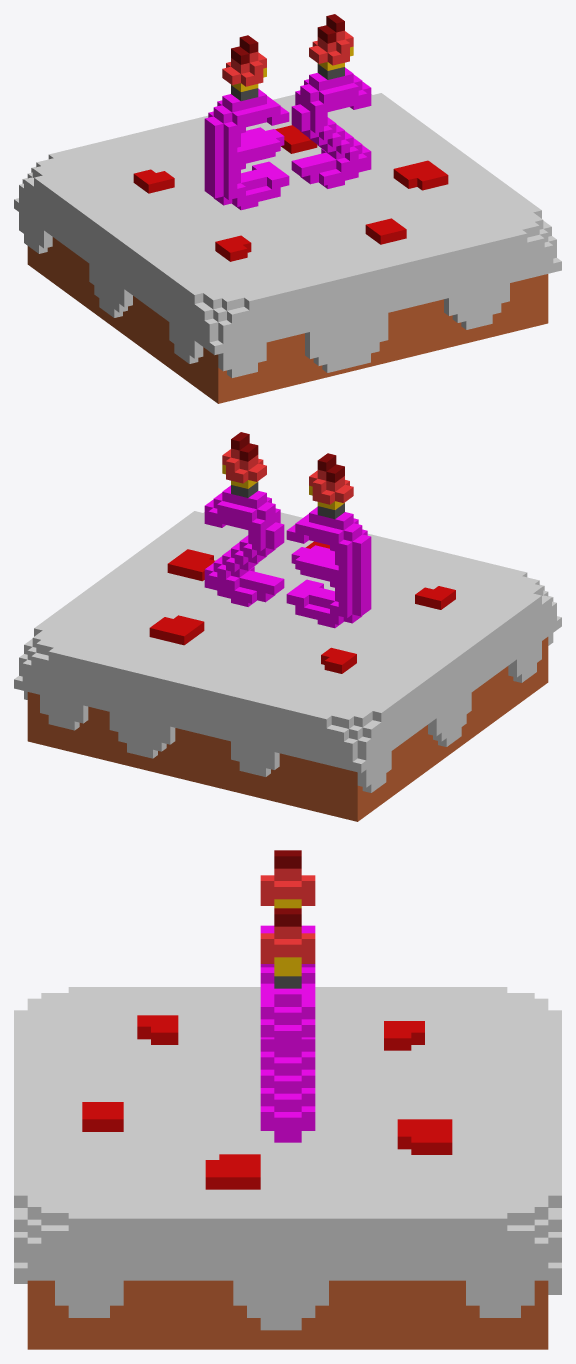
3 views of the same model, one above another, from view 1: azimuth 30°, elevation 25°; view 2: azimuth 150°, elevation 25°; view 3: azimuth 270°, elevation 25° (orthographic). The views are drawn at different scales.
Parts seen in each view (by area): view 1: Untitled; view 2: Untitled; view 3: Untitled.
Part boxes in pixels (bbox=[...]): Untitled: bbox=[14, 14, 561, 403]; Untitled: bbox=[14, 432, 561, 821]; Untitled: bbox=[14, 850, 561, 1349].
Size of the model in its own units: 4 by 2.9 by 4.
1 material, 1 textured.
